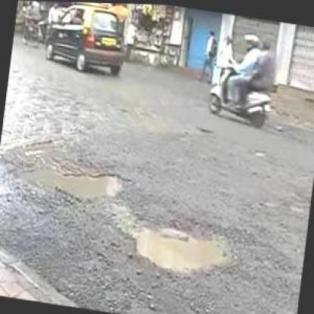Hueco: (128, 209, 238, 276), (7, 154, 133, 203)
